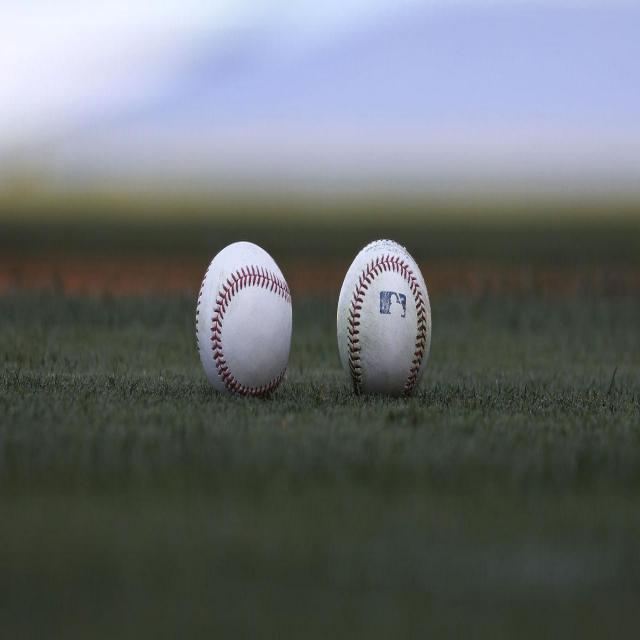ball: (186, 234, 298, 406), (330, 236, 430, 400)
